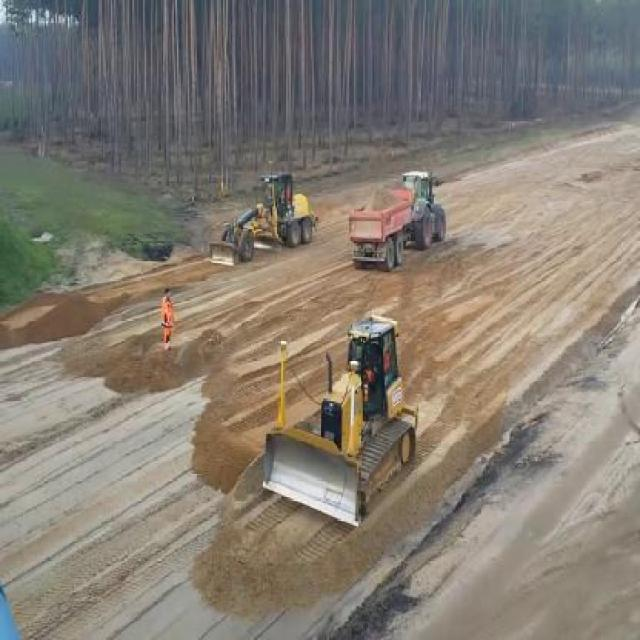Bulldozer: (261, 308, 420, 529)
Dump Truck: (348, 163, 446, 269)
Grader: (196, 162, 321, 273)
